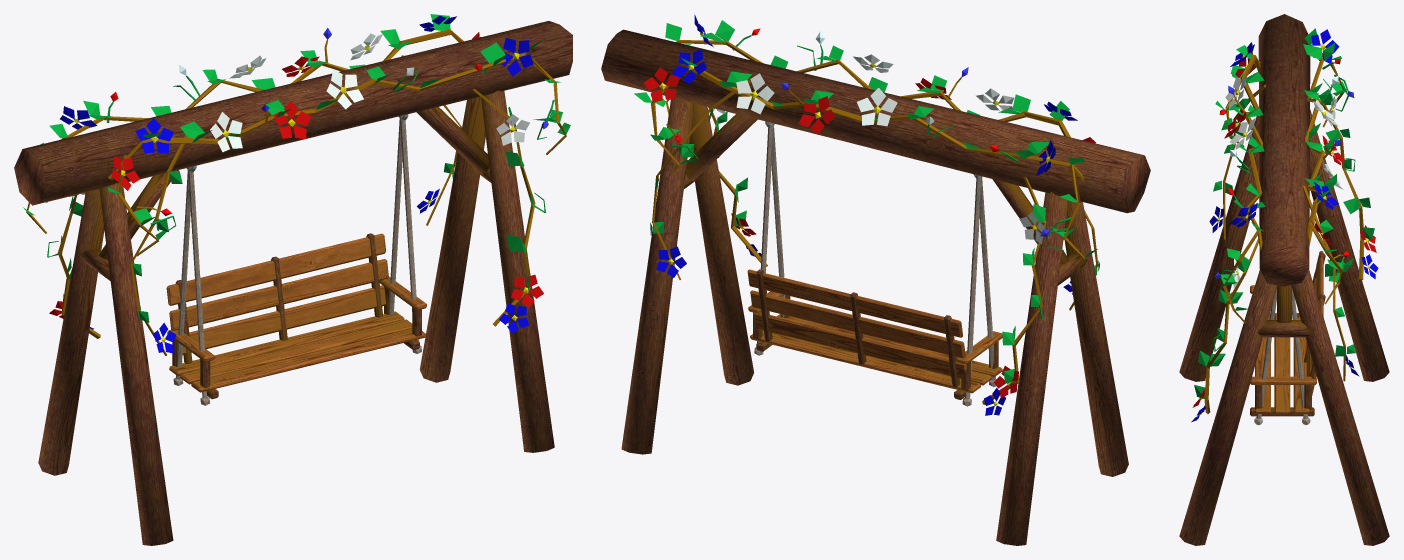
File: dlna.glb
The picture shows the model from 3 angles, left to right: view 1: azimuth 30°, elevation 25°; view 2: azimuth 150°, elevation 25°; view 3: azimuth 270°, elevation 25°; orthographic projection. The views are drawn at different scales.
Parts seen in each view (by area): view 1: Corner_Brace_R.007, Back_Support_Post, Flowering_Vine_Decoration, Flowering_Vine_Decoration.003, Flowering_Vine_Decoration.079, Flowering_Vine_Decoration.022, Rope_Front_L, Rope_Knot_R, Rope_Knot_L.001, Rope_Knot_R.001, Flowering_Vine_Decoration.001; view 2: Corner_Brace_R.007, Back_Support_Post, Flowering_Vine_Decoration.003, Flowering_Vine_Decoration, Flowering_Vine_Decoration.001, Flowering_Vine_Decoration.002, Rope_Knot_L.001, Flowering_Vine_Decoration.079, Rope_Front_L, Rope_Knot_R.001, Rope_Knot_R; view 3: Corner_Brace_R.007, Back_Support_Post, Flowering_Vine_Decoration.003, Flowering_Vine_Decoration, Flowering_Vine_Decoration.001, Flowering_Vine_Decoration.079, Flowering_Vine_Decoration.002, Flowering_Vine_Decoration.022, Rope_Knot_R.001, Rope_Knot_R.
Part boxes in pixels (x1,y1,x2,y2): Corner_Brace_R.007: (14, 21, 572, 545); Back_Support_Post: (166, 233, 426, 399); Flowering_Vine_Decoration: (108, 38, 570, 256); Flowering_Vine_Decoration.003: (23, 14, 481, 233); Flowering_Vine_Decoration.079: (473, 89, 545, 333); Flowering_Vine_Decoration.022: (130, 135, 187, 355); Rope_Front_L: (188, 167, 209, 405); Rope_Knot_R: (400, 115, 421, 353); Rope_Knot_L.001: (173, 167, 190, 385); Rope_Knot_R.001: (389, 116, 402, 315); Flowering_Vine_Decoration.001: (47, 192, 100, 338); Corner_Brace_R.007: (601, 29, 1150, 545); Back_Support_Post: (747, 269, 1002, 399); Flowering_Vine_Decoration.003: (634, 49, 1097, 271); Flowering_Vine_Decoration: (652, 14, 1095, 143); Flowering_Vine_Decoration.001: (982, 176, 1046, 415); Flowering_Vine_Decoration.002: (650, 79, 750, 279); Rope_Knot_L.001: (962, 176, 981, 406); Flowering_Vine_Decoration.079: (708, 107, 767, 266); Rope_Front_L: (979, 176, 996, 387); Rope_Knot_R.001: (754, 122, 773, 355); Rope_Knot_R: (771, 124, 785, 317); Corner_Brace_R.007: (1179, 14, 1389, 545); Back_Support_Post: (1250, 250, 1325, 416); Flowering_Vine_Decoration.003: (1303, 28, 1354, 304); Flowering_Vine_Decoration: (1215, 42, 1265, 323); Flowering_Vine_Decoration.001: (1319, 92, 1378, 280); Flowering_Vine_Decoration.079: (1191, 238, 1258, 422); Flowering_Vine_Decoration.002: (1302, 186, 1359, 381); Flowering_Vine_Decoration.022: (1209, 84, 1265, 239); Rope_Knot_R.001: (1292, 288, 1310, 424); Rope_Knot_R: (1254, 288, 1276, 425).
Bounding box in the file's own units: 22.56 × 16.07 × 8.73.
4 materials, 4 textured.
